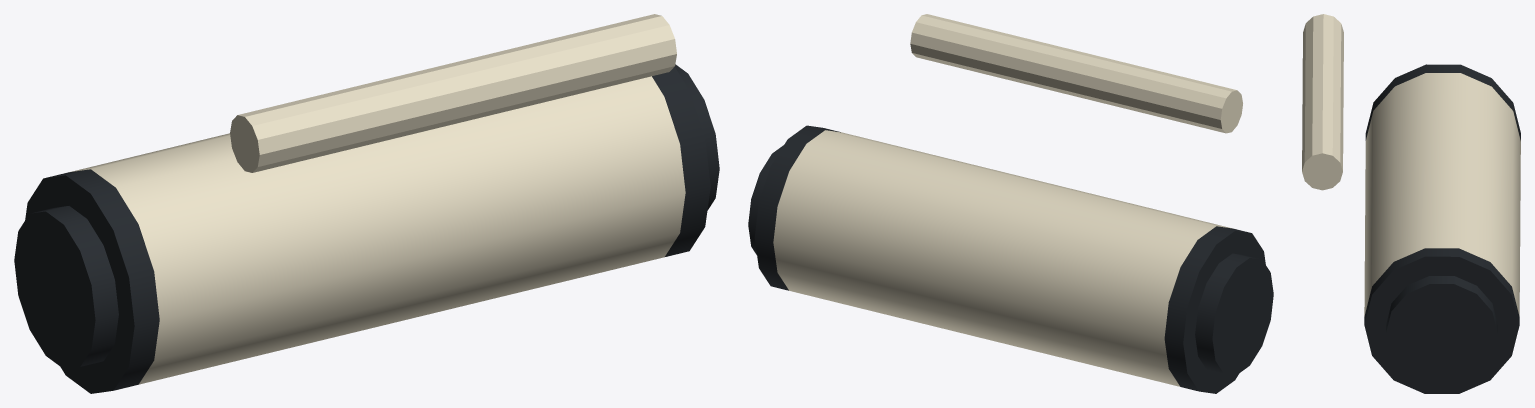
File: camera_flash.glb
3 renders of one model, left to right at view 1: azimuth 30°, elevation 25°; view 2: azimuth 150°, elevation 25°; view 3: azimuth 270°, elevation 25°, orthographic. The views are drawn at different scales.
Visible parts, largest first — view 1: FlashReflector, FlashHingeBody, FlashDiffuserTop; view 2: FlashReflector, FlashHingeBody, FlashDiffuserTop; view 3: FlashReflector, FlashHingeBody, FlashDiffuserTop.
Part boxes in pixels (bbox=[...]): FlashReflector: bbox=[69, 76, 685, 384]; FlashHingeBody: bbox=[14, 64, 719, 393]; FlashDiffuserTop: bbox=[230, 14, 676, 172]; FlashReflector: bbox=[773, 130, 1232, 386]; FlashHingeBody: bbox=[748, 125, 1273, 393]; FlashDiffuserTop: bbox=[910, 14, 1242, 133]; FlashReflector: bbox=[1364, 73, 1520, 316]; FlashHingeBody: bbox=[1364, 64, 1520, 393]; FlashDiffuserTop: bbox=[1302, 14, 1343, 190].
Size of the model in its own units: 0.14 by 0.067 by 0.0621.
